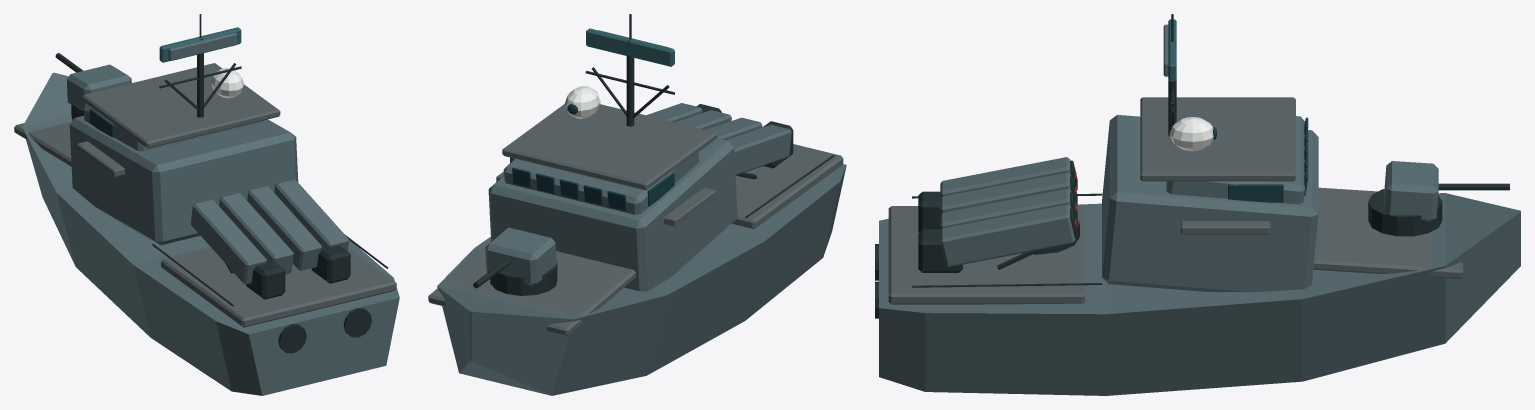
File: EnemyMissileBoat.fbx
3 renders of one model, left to right at view 1: azimuth 30°, elevation 25°; view 2: azimuth 150°, elevation 25°; view 3: azimuth 270°, elevation 25°, orthographic. The views are drawn at different scales.
Visible parts, largest first — view 1: MissileCraftHull, CombatInformationHull, WheelhouseRoof, AftWorkingDeck, MissileCanister_01, MissileCanister_03, MissileCanister_02, MissileCanister_04, GunShield, ForwardDeck, EngineExhaust, EngineExhaust.001 (+9 smaller); view 2: MissileCraftHull, CombatInformationHull, WheelhouseRoof, ForwardDeck, AftWorkingDeck, GunShield, WheelhouseUpper, MissileCanister_01, SearchRadarArray, GunFixedBase, BridgeWing, FireControlDirector (+5 smaller); view 3: MissileCraftHull, CombatInformationHull, WheelhouseRoof, AftWorkingDeck, ForwardDeck, MissileCanister_04, GunShield, WheelhouseUpper, MissileCanister_02, MissileCanister_01, MissileCanister_03, GunFixedBase (+6 smaller).
Boxes of the visible parts, x1,y1,x2,y2 form: MissileCraftHull: (22, 72, 399, 395); CombatInformationHull: (69, 115, 298, 245); WheelhouseRoof: (82, 63, 280, 148); AftWorkingDeck: (161, 247, 396, 327); MissileCanister_01: (190, 199, 266, 284); MissileCanister_03: (247, 186, 321, 270); MissileCanister_02: (219, 193, 293, 274); MissileCanister_04: (274, 179, 349, 250); GunShield: (67, 64, 131, 109); ForwardDeck: (14, 122, 71, 166); EngineExhaust: (246, 256, 285, 299); EngineExhaust.001: (311, 243, 350, 283); MissileCraftHull: (437, 164, 846, 395); CombatInformationHull: (488, 138, 737, 291); WheelhouseRoof: (502, 104, 716, 190); ForwardDeck: (428, 247, 636, 336); AftWorkingDeck: (731, 144, 843, 228); GunShield: (485, 227, 556, 286); WheelhouseUpper: (503, 152, 699, 214); MissileCanister_01: (726, 124, 791, 175); SearchRadarArray: (586, 28, 674, 66); GunFixedBase: (490, 261, 557, 295); BridgeWing: (664, 187, 715, 226); FireControlDirector: (565, 86, 600, 118); MissileCraftHull: (879, 193, 1520, 395); CombatInformationHull: (1102, 114, 1318, 292); WheelhouseRoof: (1140, 97, 1295, 181); AftWorkingDeck: (888, 206, 1084, 304); ForwardDeck: (1313, 187, 1463, 278); MissileCanister_04: (940, 204, 1075, 267); GunShield: (1384, 161, 1438, 222); WheelhouseUpper: (1166, 116, 1304, 204); MissileCanister_02: (940, 172, 1071, 213); MissileCanister_01: (940, 157, 1071, 196); MissileCanister_03: (940, 189, 1071, 229); GunFixedBase: (1368, 189, 1442, 236).
Size of the model in its own units: 340 by 482 by 838.
